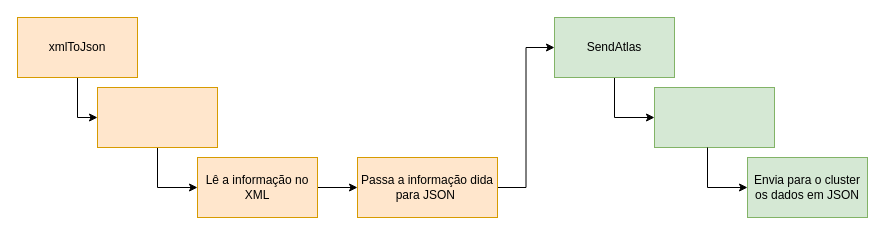
Some shapes in this 885 by 235 pixel diagram are drawn without their labels. Here are the shapes that lost their labels. From the top down, the box of each, then its label:
(96, 86, 218, 148): escreverDoc() (1)
(654, 86, 774, 148): send() (2)
